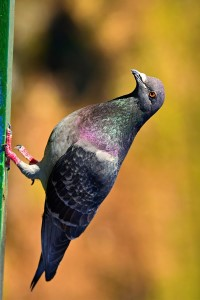pigeon: (0, 66, 168, 294)
